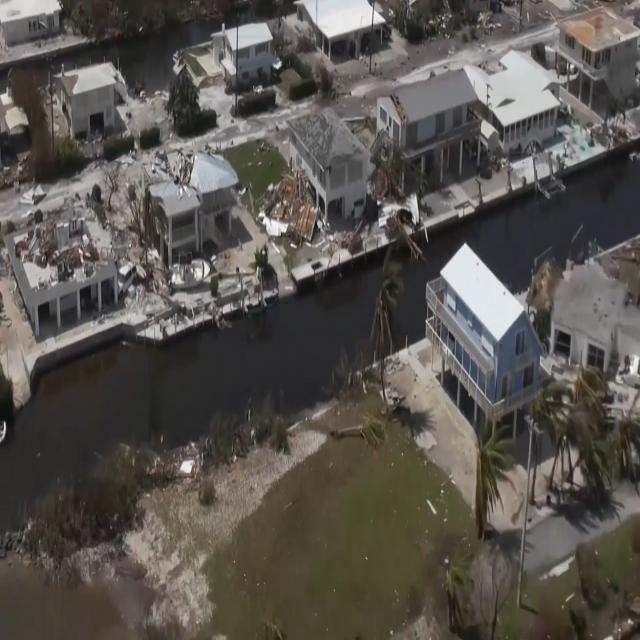flood: (0, 268, 384, 514), (423, 140, 640, 295), (0, 18, 217, 95), (393, 260, 426, 344)
house: (421, 241, 544, 423), (374, 66, 480, 181), (11, 218, 119, 326), (560, 8, 640, 92), (499, 94, 561, 150), (218, 22, 274, 80)
